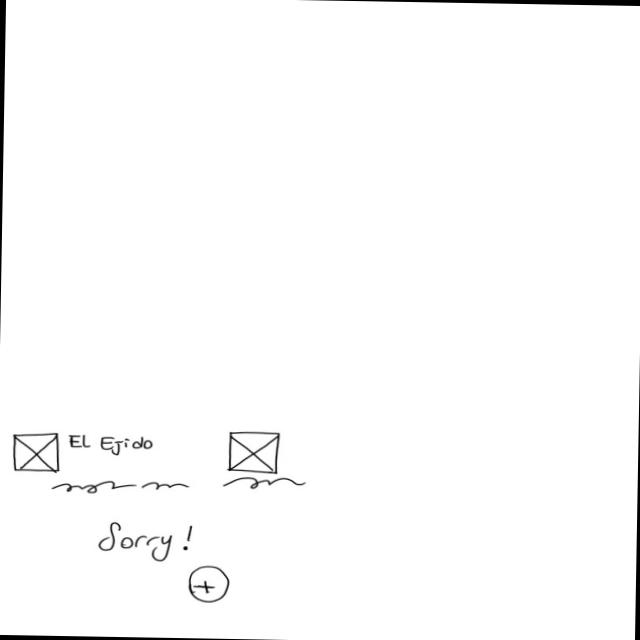icon-button: (188, 565, 231, 604)
image: (227, 431, 283, 474), (12, 431, 62, 474)
label: (97, 521, 195, 564), (69, 435, 154, 459)
text: (50, 479, 192, 499), (221, 476, 307, 492)
